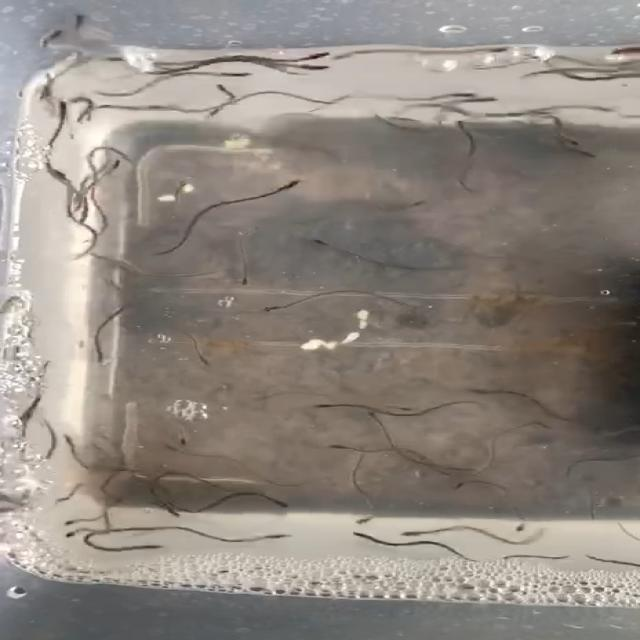inactive_glass_eel: (240, 301, 329, 329), (397, 528, 473, 556), (274, 394, 348, 420), (273, 170, 328, 203), (301, 440, 372, 464), (453, 82, 512, 110), (292, 57, 349, 85), (328, 510, 392, 531), (158, 427, 205, 454), (103, 153, 144, 183), (219, 267, 263, 294), (447, 39, 515, 56), (45, 506, 94, 529), (296, 235, 342, 259), (38, 167, 86, 189), (246, 498, 316, 513), (63, 523, 104, 547), (32, 24, 64, 50), (290, 48, 341, 64), (502, 520, 542, 540), (53, 6, 100, 23), (450, 478, 489, 498), (448, 84, 484, 105), (556, 130, 588, 152), (203, 70, 250, 84), (256, 528, 296, 544), (212, 82, 250, 95)
